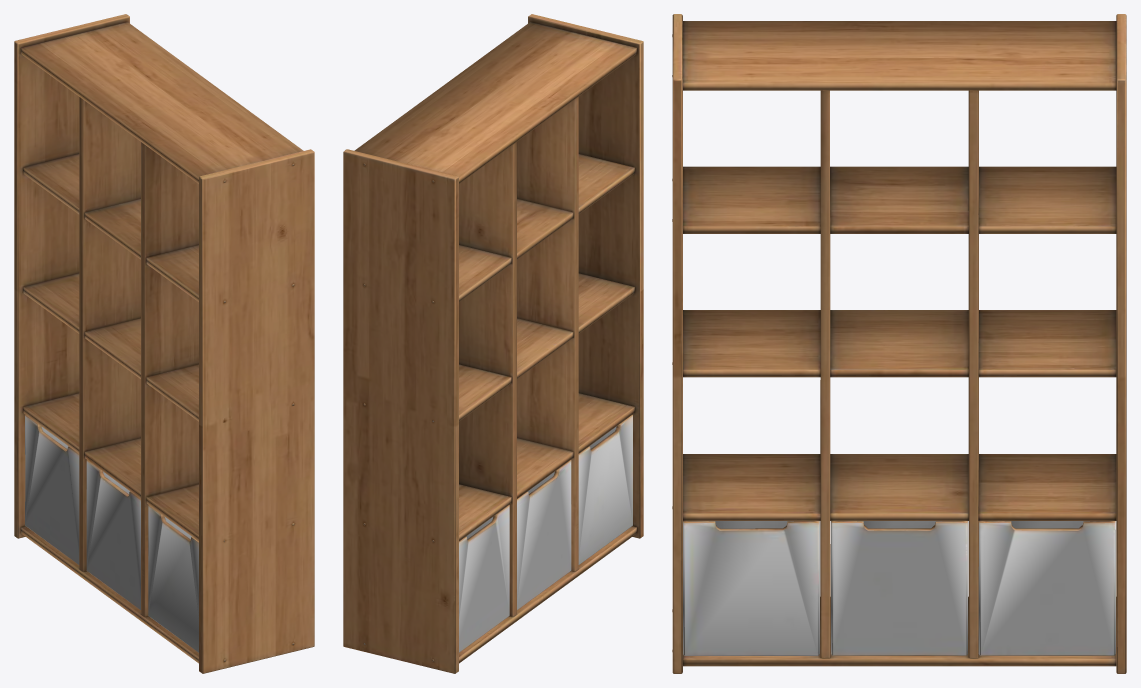
File: wooden_display_shelves_01.glb
3 renders of one model, left to right at view 1: azimuth 30°, elevation 25°; view 2: azimuth 150°, elevation 25°; view 3: azimuth 270°, elevation 25°, orthographic. The views are drawn at different scales.
Parts seen in each view (by area): view 1: wooden_display_shelves_01; view 2: wooden_display_shelves_01; view 3: wooden_display_shelves_01.
Part boxes in pixels (box(x1,y1,x2,y2)): wooden_display_shelves_01: box(14, 14, 314, 673); wooden_display_shelves_01: box(343, 14, 643, 673); wooden_display_shelves_01: box(672, 14, 1126, 673).
Bounding box in the file's own units: 0.3714 × 1.56 × 1.08.
1 material, 1 textured.
